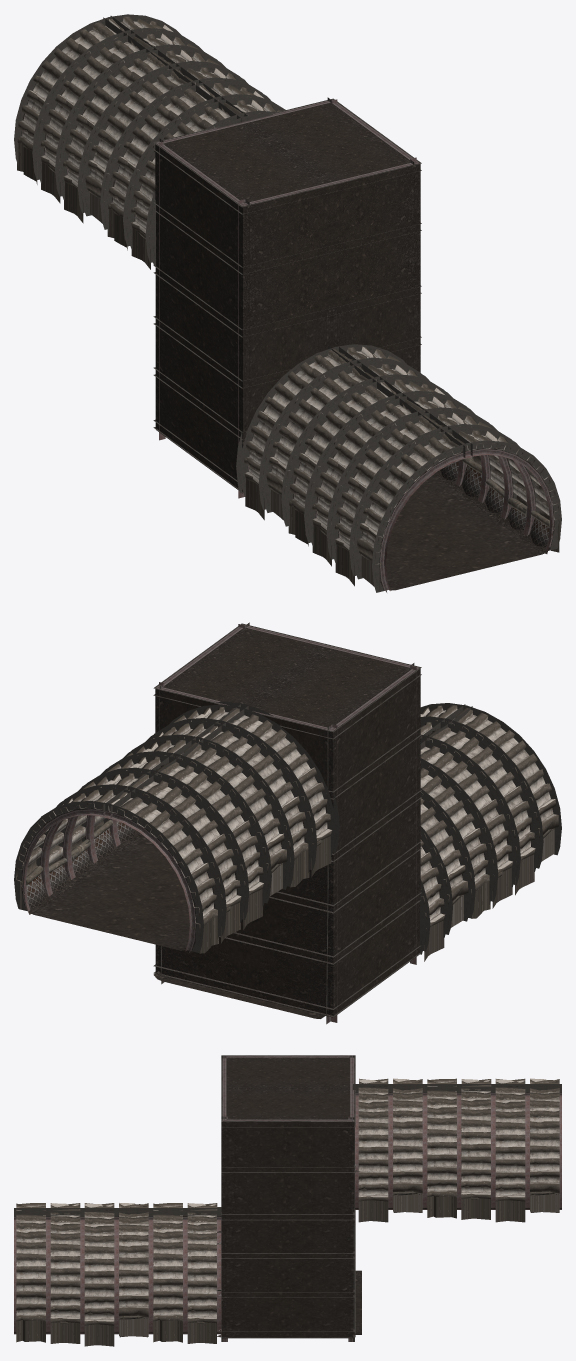
File: tunnel_tile_7.dae
3 renders of one model, top to bottom at view 1: azimuth 30°, elevation 25°; view 2: azimuth 150°, elevation 25°; view 3: azimuth 270°, elevation 25°, orthographic. The views are drawn at different scales.
Visible parts, largest first — view 1: Ground, Walls, Chainlink, Wood; view 2: Walls, Ground, Chainlink, Wood; view 3: Walls, Ground.
Boxes of the visible parts, left/top/right/bottom form: Ground: left=155, top=102, right=550, bottom=590; Walls: left=14, top=14, right=561, bottom=592; Chainlink: left=385, top=461, right=554, bottom=592; Wood: left=47, top=164, right=553, bottom=566; Walls: left=14, top=622, right=561, bottom=1024; Ground: left=25, top=628, right=420, bottom=1018; Chainlink: left=21, top=821, right=552, bottom=953; Wood: left=21, top=820, right=551, bottom=929; Walls: left=14, top=1055, right=561, bottom=1346; Ground: left=14, top=1057, right=561, bottom=1338.
Size of the model in its own units: 6.06 by 20 by 9.21.
